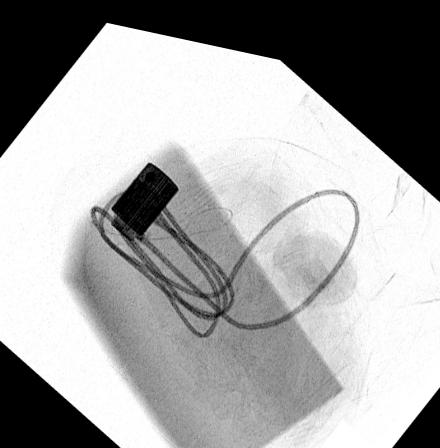Lighter: (110, 154, 179, 230)
